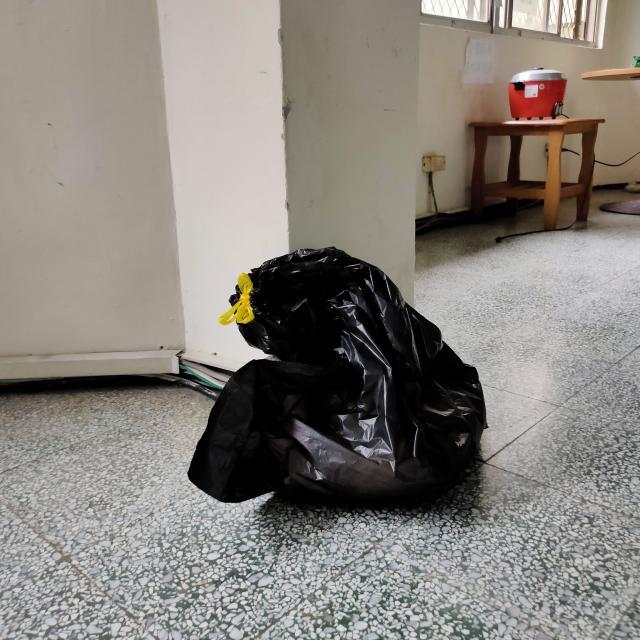Vinyl: (168, 207, 496, 542)
